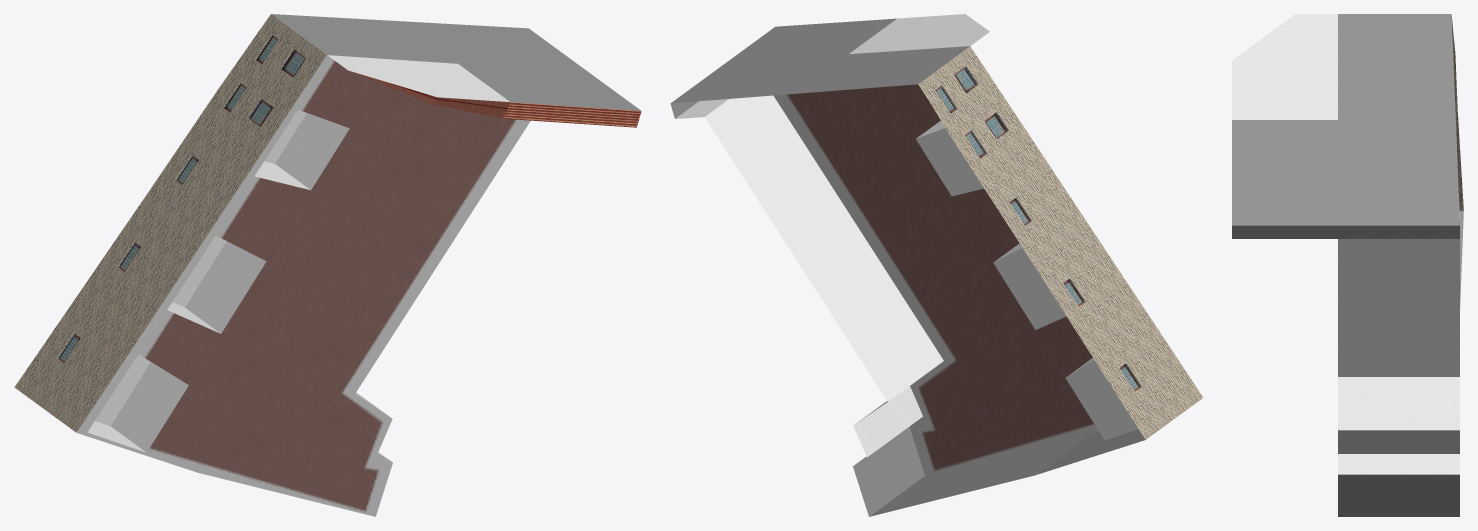
The model's file is Lai_43_2.obj.
3 views of the same model, side by side, from view 1: azimuth 30°, elevation 25°; view 2: azimuth 150°, elevation 25°; view 3: azimuth 270°, elevation 25° (orthographic). The views are drawn at different scales.
Visible parts, largest first — view 1: Lai_43_2; view 2: Lai_43_2; view 3: Lai_43_2.
Part boxes in pixels (box(x1,y1,x2,y2)): Lai_43_2: box(14, 14, 641, 516); Lai_43_2: box(670, 14, 1203, 516); Lai_43_2: box(1232, 14, 1463, 516).
Bounding box in the file's own units: 31.24 × 27.59 × 12.1.
